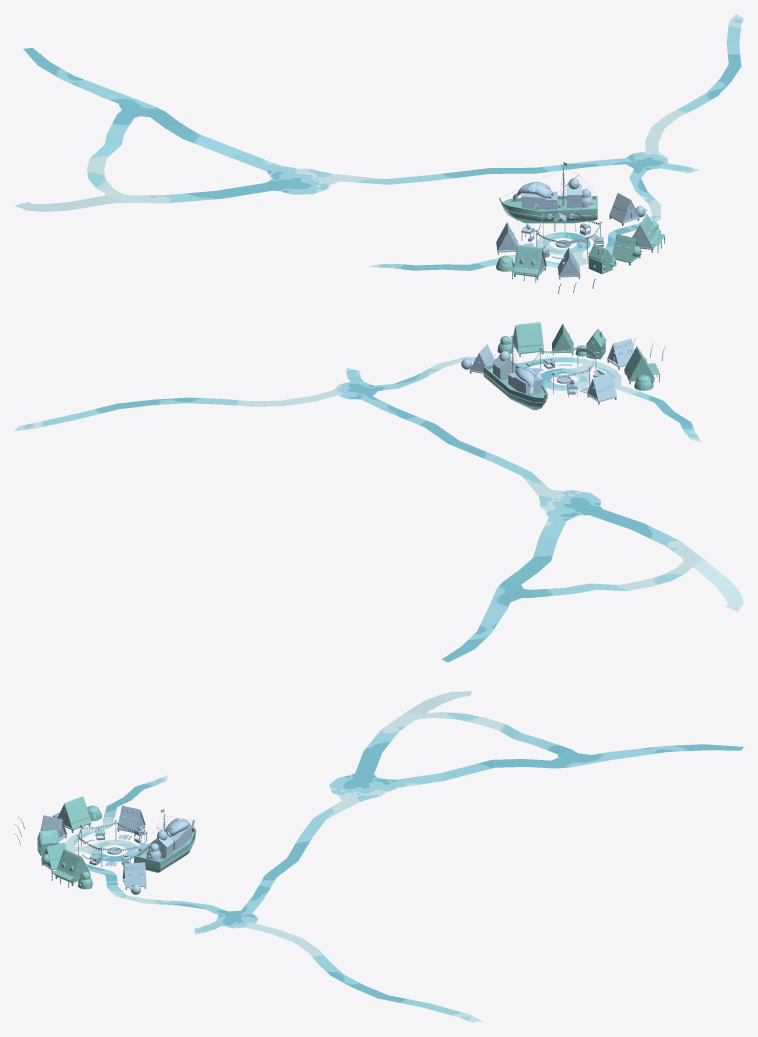
Rendered from Neighborhood_SalmonSettlementLocked.fbx.
3 renders of one model, top to bottom at view 1: azimuth 30°, elevation 25°; view 2: azimuth 150°, elevation 25°; view 3: azimuth 270°, elevation 25°, orthographic. The views are drawn at different scales.
Parts seen in each view (by area): view 1: Object_Road1, Neighborhood_SalmonSettlementLocked_Building_IglooBall; view 2: Object_Road1, Neighborhood_SalmonSettlementLocked_Building_IglooBall; view 3: Object_Road1, Neighborhood_SalmonSettlementLocked_Building_IglooBall.
Boxes of the visible parts, left/top/right/bottom form: Object_Road1: left=14, top=14, right=743, bottom=270; Neighborhood_SalmonSettlementLocked_Building_IglooBall: left=496, top=162, right=665, bottom=293; Object_Road1: left=14, top=356, right=743, bottom=662; Neighborhood_SalmonSettlementLocked_Building_IglooBall: left=461, top=322, right=665, bottom=410; Object_Road1: left=65, top=691, right=743, bottom=1022; Neighborhood_SalmonSettlementLocked_Building_IglooBall: left=14, top=796, right=196, bottom=894.
Size of the model in its own units: 19011 by 1670 by 17225.
